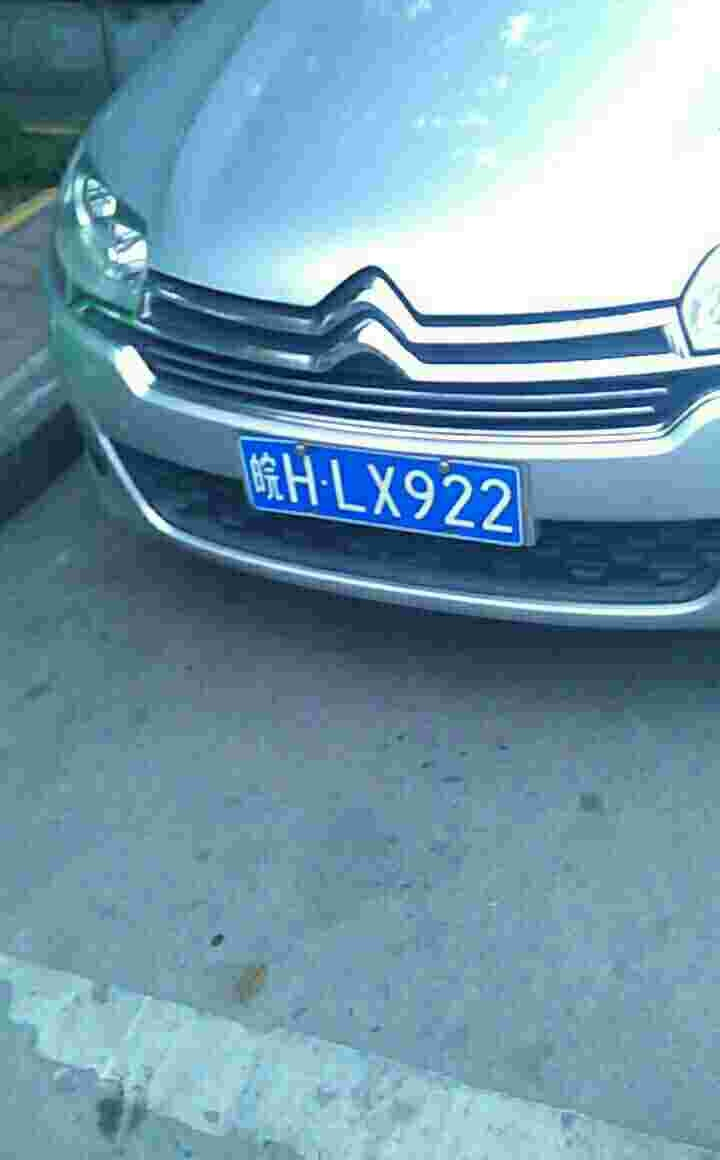license_plate: (236, 433, 521, 547)
